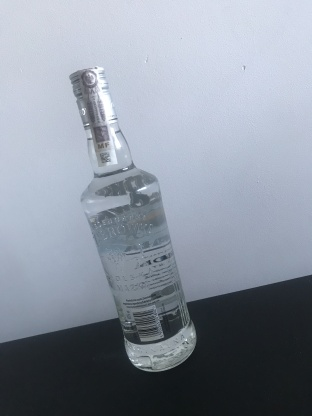nakretka: (67, 63, 119, 133)
